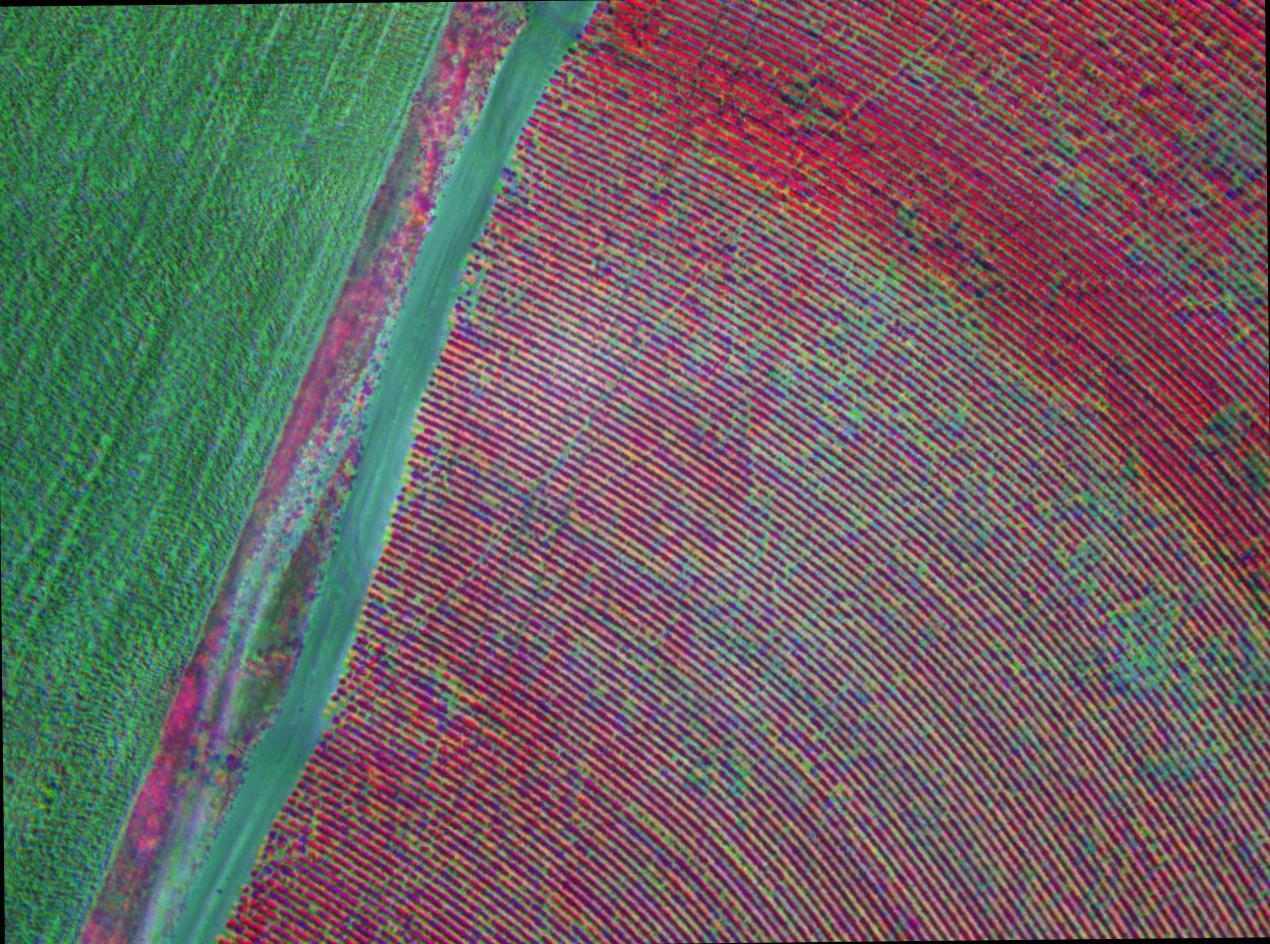dc: (1081, 494, 1087, 499), (876, 281, 881, 286), (961, 410, 966, 415), (854, 412, 859, 416), (448, 696, 452, 701), (820, 733, 824, 738), (954, 304, 958, 308), (578, 646, 582, 650), (693, 560, 697, 563), (630, 806, 633, 810)
